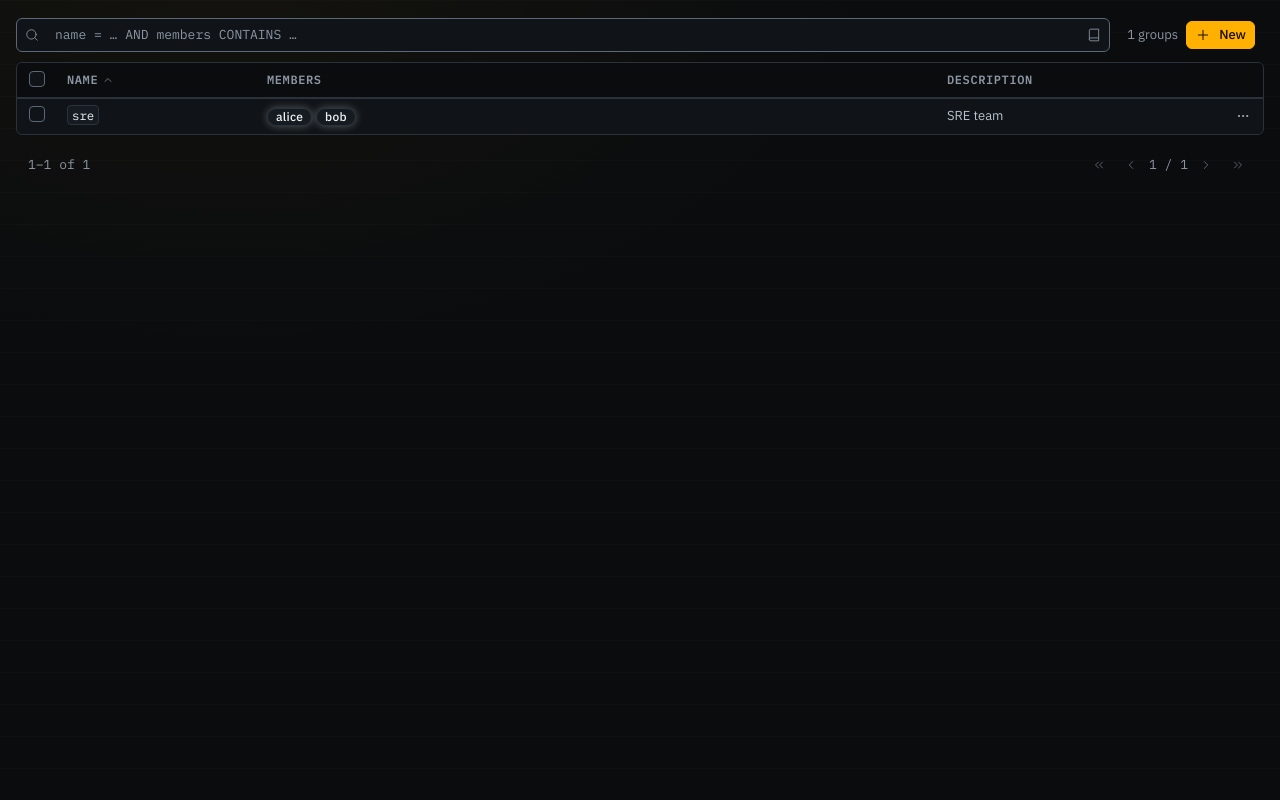
GroupsPage › opening a row opens GroupEditor
Click the text "sre" at (83, 115), box top-left (67, 105), bottom-right (99, 125)
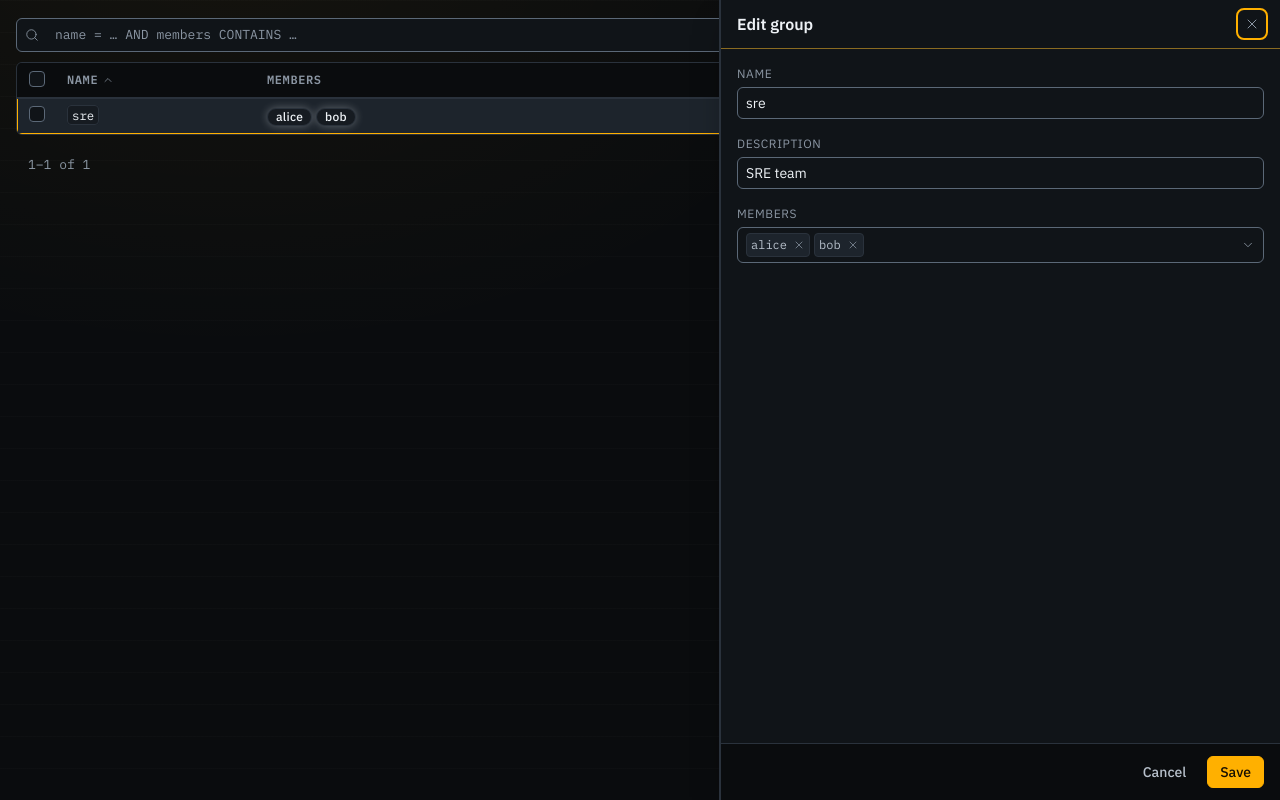
Result: the heading "Edit group" is shown at top-left (737, 14), bottom-right (813, 34)
